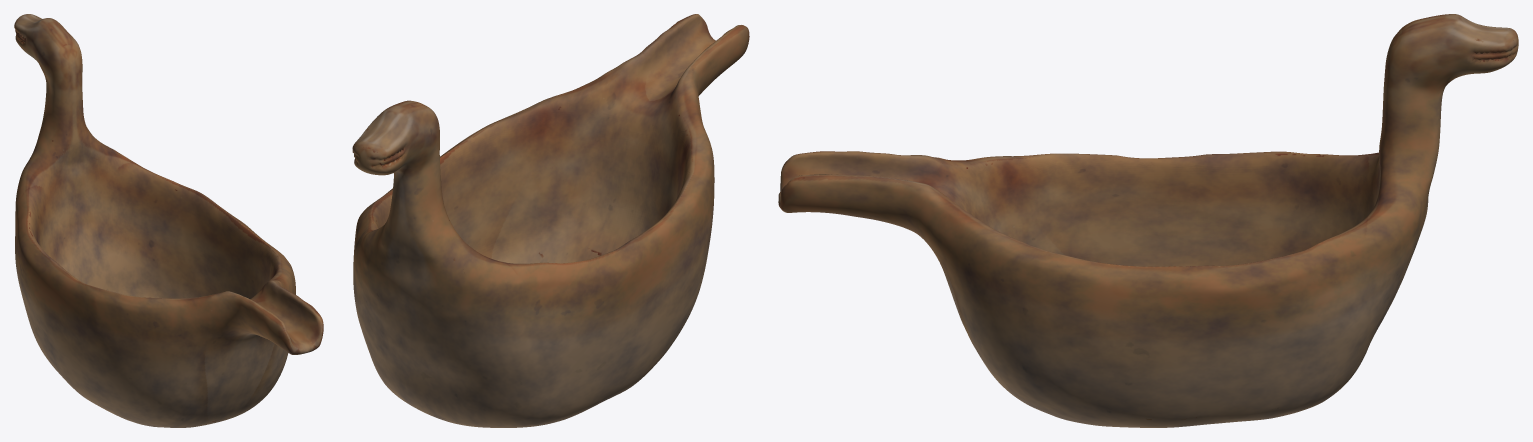
The model's file is LohikaarmeKippo.fbx.
3 renders of one model, left to right at view 1: azimuth 30°, elevation 25°; view 2: azimuth 150°, elevation 25°; view 3: azimuth 270°, elevation 25°, orthographic. The views are drawn at different scales.
Parts seen in each view (by area): view 1: Mball.010; view 2: Mball.010; view 3: Mball.010.
Boxes of the visible parts, left/top/right/bottom form: Mball.010: left=14, top=14, right=323, bottom=427; Mball.010: left=352, top=14, right=749, bottom=427; Mball.010: left=778, top=14, right=1518, bottom=427.
Bounding box in the file's own units: 427 × 595 × 1047.
1 material, 1 textured.
